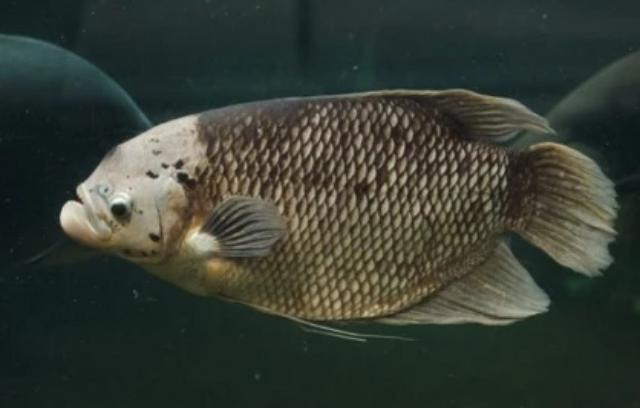Mulut: (34, 166, 124, 258)
Sirip Anal: (341, 232, 563, 336)
Sirip Dada: (181, 176, 307, 278)
Sirip Ekor: (496, 132, 634, 290)
Sirip Punggung: (338, 70, 562, 160)
